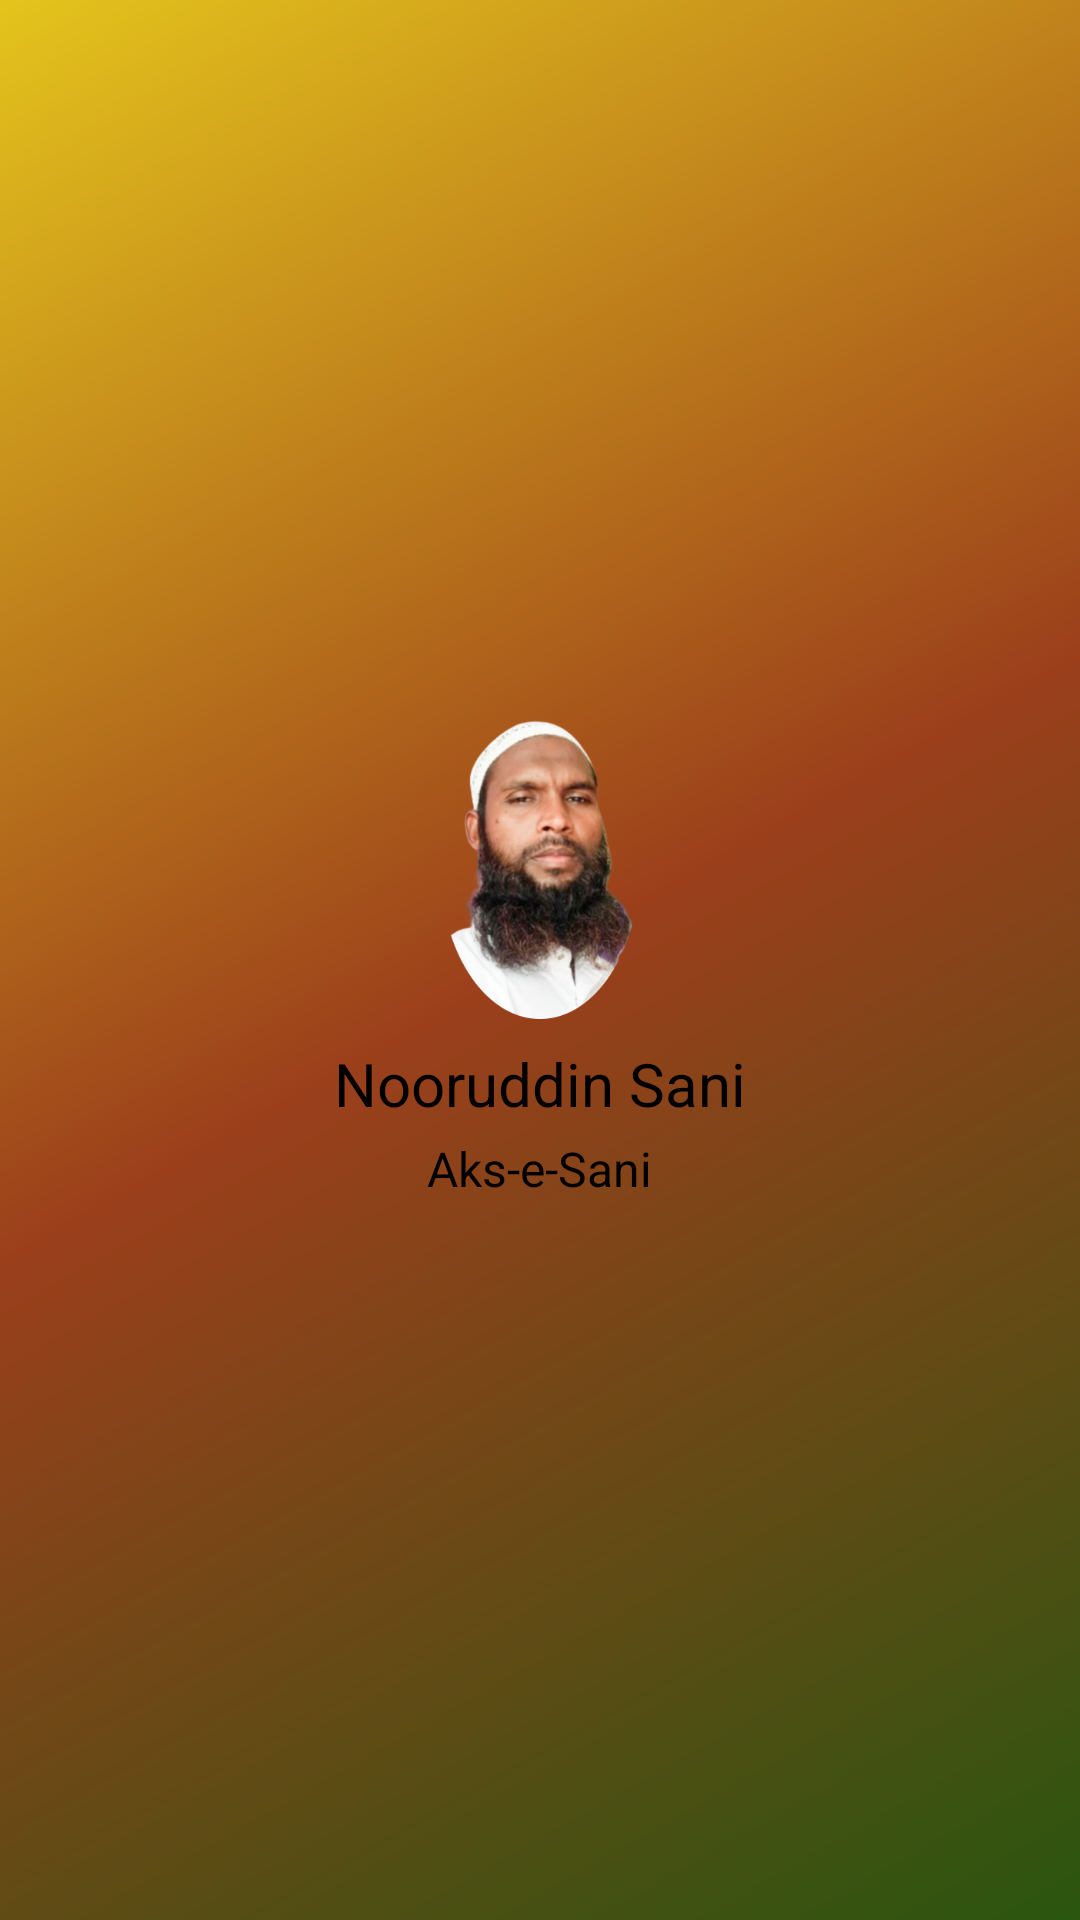

Named icons in this screenshot (1080px x 1920px) and their bounding boxes, (x1=x1, y1=y1, x2=x2, y2=y2):
Header Image: (x1=390, y1=719, x2=632, y2=1019)
